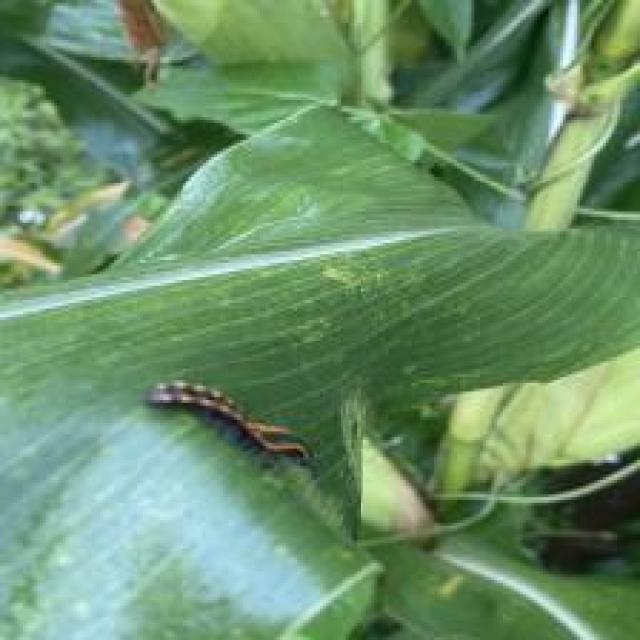Plaga: (155, 367, 344, 490)
